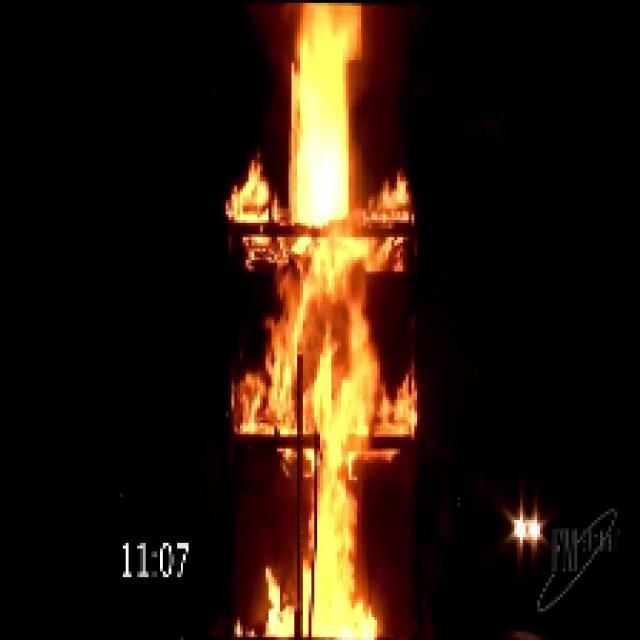Fire: (220, 0, 428, 629)
